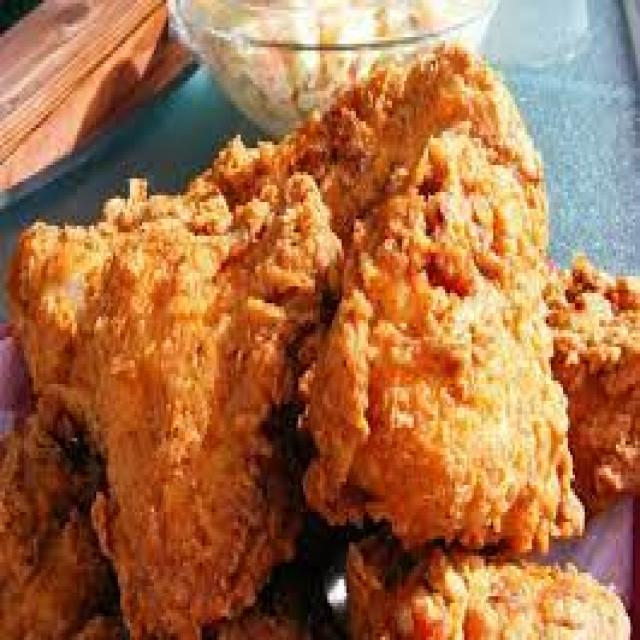Frango: (9, 47, 640, 640)
